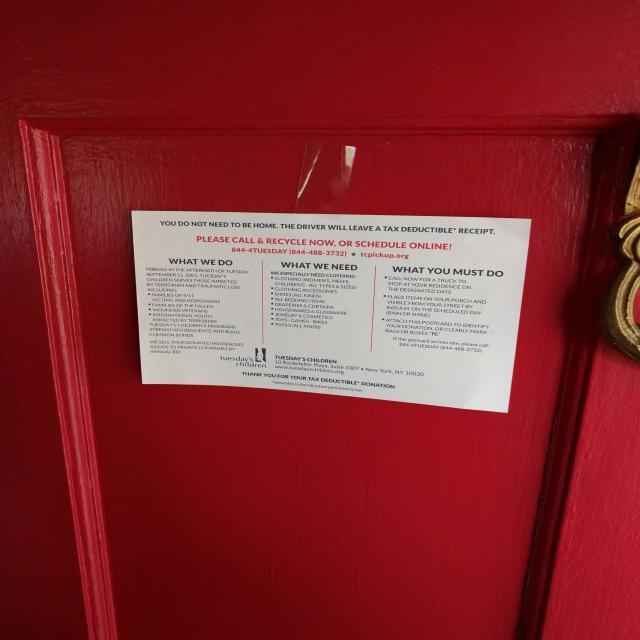document: (132, 211, 530, 412)
